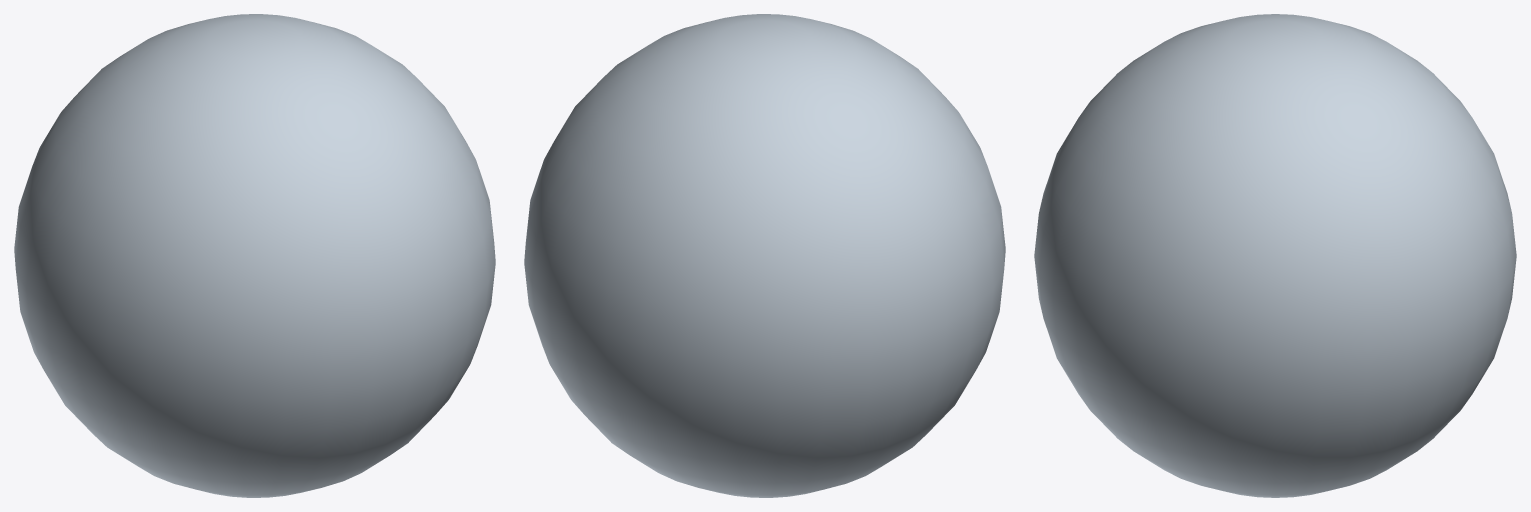
The model's file is ball_prototype 1.fbx.
3 renders of one model, left to right at view 1: azimuth 30°, elevation 25°; view 2: azimuth 150°, elevation 25°; view 3: azimuth 270°, elevation 25°, orthographic.
Parts seen in each view (by area): view 1: Sphere; view 2: Sphere; view 3: Sphere.
Part boxes in pixels (<box>): Sphere: <box>14,14,495,497</box>; Sphere: <box>524,14,1005,497</box>; Sphere: <box>1034,14,1516,497</box>.
Bounding box in the file's own units: 24 × 24 × 24.
